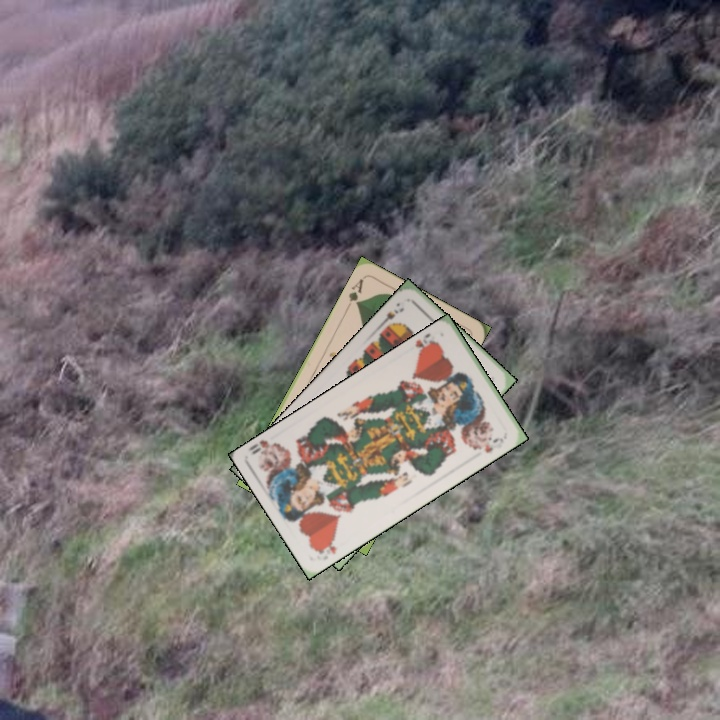GA: (342, 275, 366, 311)
HO: (411, 330, 441, 360), (311, 534, 339, 557)
S9: (375, 303, 407, 332)
